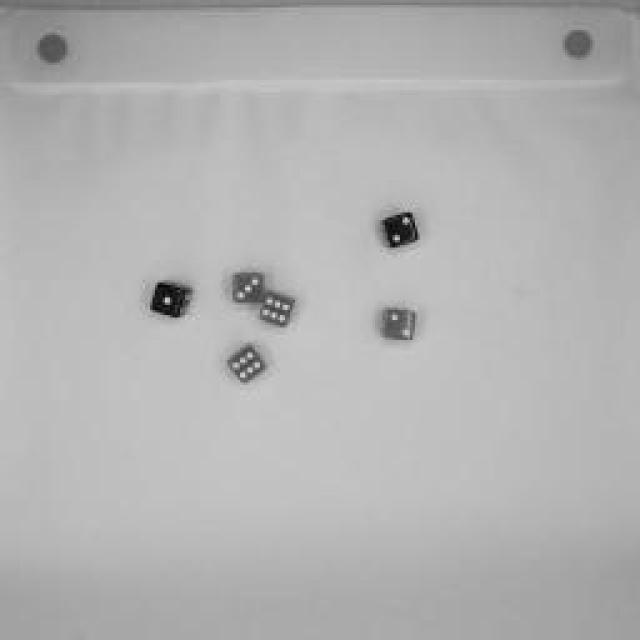dice_1: (149, 279, 196, 321)
dice_2: (379, 210, 421, 252), (378, 306, 420, 344)
dice_3: (232, 269, 266, 306)
dice_6: (226, 342, 272, 388), (256, 290, 299, 332)
